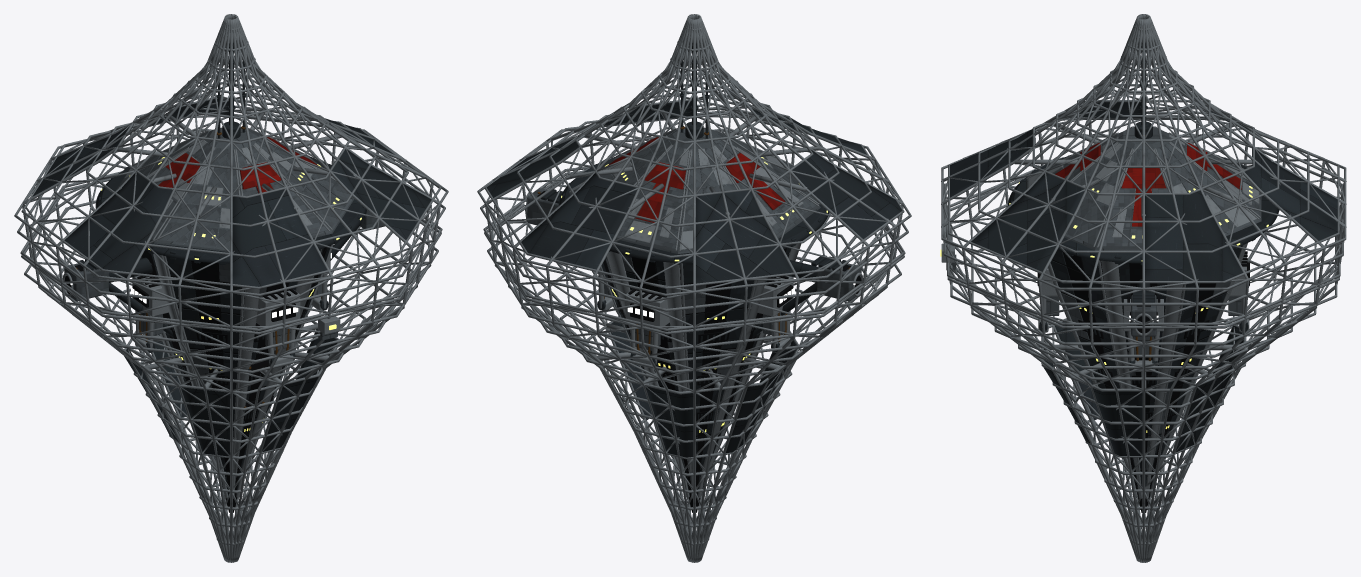
3 renders of one model, left to right at view 1: azimuth 30°, elevation 25°; view 2: azimuth 150°, elevation 25°; view 3: azimuth 270°, elevation 25°, orthographic.
Parts seen in each view (by area): view 1: Space Dock construction longitudinal girders, Space Dock construction horizontal frames, Space Dock construction diagonal lattice, Space Dock temporary shield 8, Space Dock temporary shield 6, Space Dock temporary shield 10, Space Dock pyramidal upper hull, Space Dock equatorial rim, Space Dock temporary shield 7, Space Dock construction body support stays, Space Dock temporary shield 4, Space Dock temporary shield 9 (+8 smaller); view 2: Space Dock construction longitudinal girders, Space Dock construction horizontal frames, Space Dock construction diagonal lattice, Space Dock temporary shield 4, Space Dock temporary shield 2, Space Dock temporary shield 6, Space Dock construction body support stays, Space Dock temporary shield 3, Space Dock pyramidal upper hull, Space Dock equatorial rim, Space Dock temporary shield 0, Space Dock pale longitudinal hull stiffener 2 1 (+12 smaller); view 3: Space Dock construction longitudinal girders, Space Dock construction horizontal frames, Space Dock construction diagonal lattice, Space Dock temporary shield 0, Space Dock temporary shield 10, Space Dock temporary shield 2, Space Dock pyramidal upper hull, Space Dock temporary shield 11, Space Dock temporary shield 8, Space Dock equatorial rim, Space Dock construction body support stays, Space Dock pale longitudinal hull stiffener 1 1 (+6 smaller).
Boxes of the visible parts, x1,y1,x2,y2 form: Space Dock construction longitudinal girders: (22,14,441,562); Space Dock construction horizontal frames: (14,25,448,545); Space Dock construction diagonal lattice: (23,31,439,541); Space Dock temporary shield 8: (232,189,326,286); Space Dock temporary shield 6: (64,172,172,272); Space Dock temporary shield 10: (330,149,431,239); Space Dock pyramidal upper hull: (116,127,354,251); Space Dock equatorial rim: (95,157,366,263); Space Dock temporary shield 7: (181,387,230,456); Space Dock construction body support stays: (106,109,356,390); Space Dock temporary shield 4: (32,124,133,196); Space Dock temporary shield 9: (262,377,318,451); Space Dock construction longitudinal girders: (484,14,903,562); Space Dock construction horizontal frames: (477,25,911,545); Space Dock construction diagonal lattice: (486,31,902,541); Space Dock temporary shield 4: (695,190,793,283); Space Dock temporary shield 2: (521,173,637,269); Space Dock temporary shield 6: (792,148,902,238); Space Dock construction body support stays: (569,109,819,390); Space Dock temporary shield 3: (645,386,693,457); Space Dock pyramidal upper hull: (568,127,820,253); Space Dock equatorial rim: (558,157,829,263); Space Dock temporary shield 0: (486,136,584,197); Space Dock pale longitudinal hull stiffener 2 1: (663,262,691,473); Space Dock construction longitudinal girders: (941,14,1346,562); Space Dock construction horizontal frames: (941,26,1346,544); Space Dock construction diagonal lattice: (942,31,1344,541); Space Dock temporary shield 0: (1145,190,1242,280); Space Dock temporary shield 10: (971,173,1084,271); Space Dock temporary shield 2: (1245,148,1337,240); Space Dock pyramidal upper hull: (1026,127,1261,250); Space Dock temporary shield 11: (1092,388,1142,455); Space Dock temporary shield 8: (950,124,1044,197); Space Dock equatorial rim: (1008,156,1279,263); Space Dock construction body support stays: (1014,123,1272,392); Space Dock pale longitudinal hull stiffener 1 1: (1147,283,1182,471).
Size of the model in its own units: 3.12 by 4.61 by 3.13.
8 materials, 6 textured.
